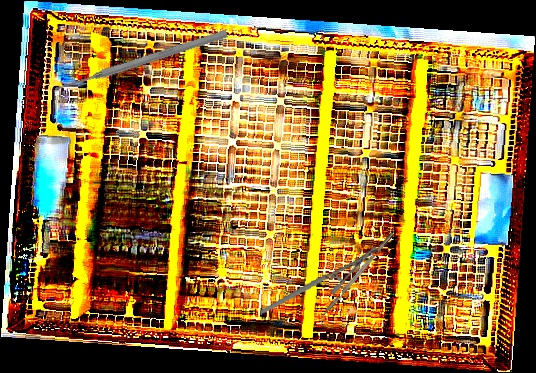Chopper: (315, 231, 399, 327)
Needle Holder: (251, 244, 387, 315)
Pusher: (53, 27, 229, 95)
